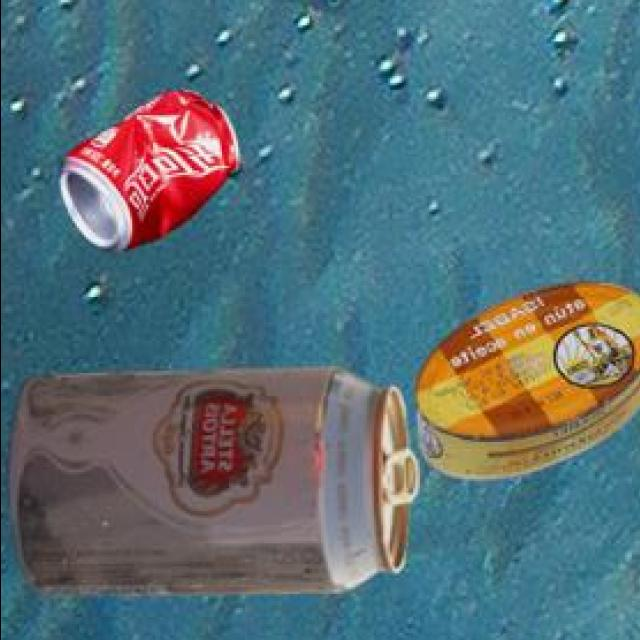logam: (3, 365, 413, 593), (411, 277, 640, 478), (54, 86, 234, 250)
